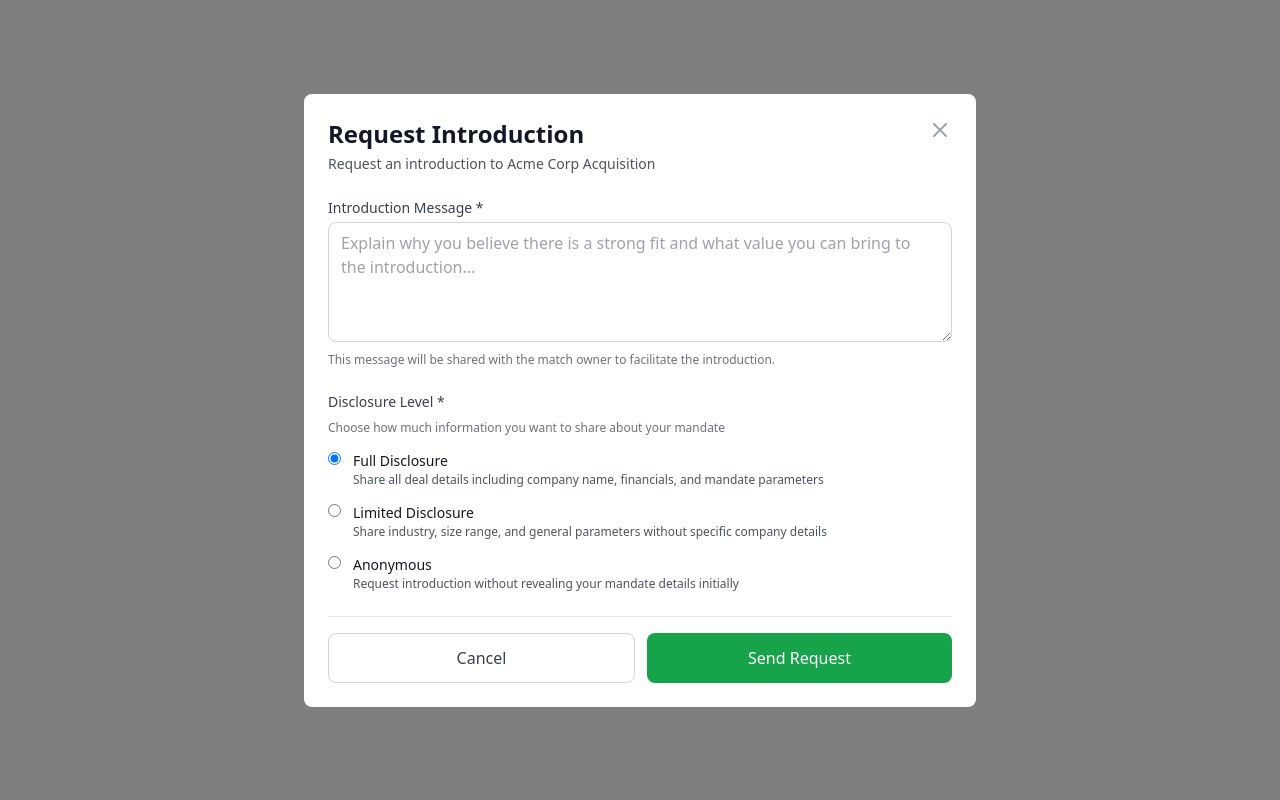
IntroductionRequestModal › should validate message is required
Click the button "Send Request" at x=800, y=658, box [647,632,952,682]
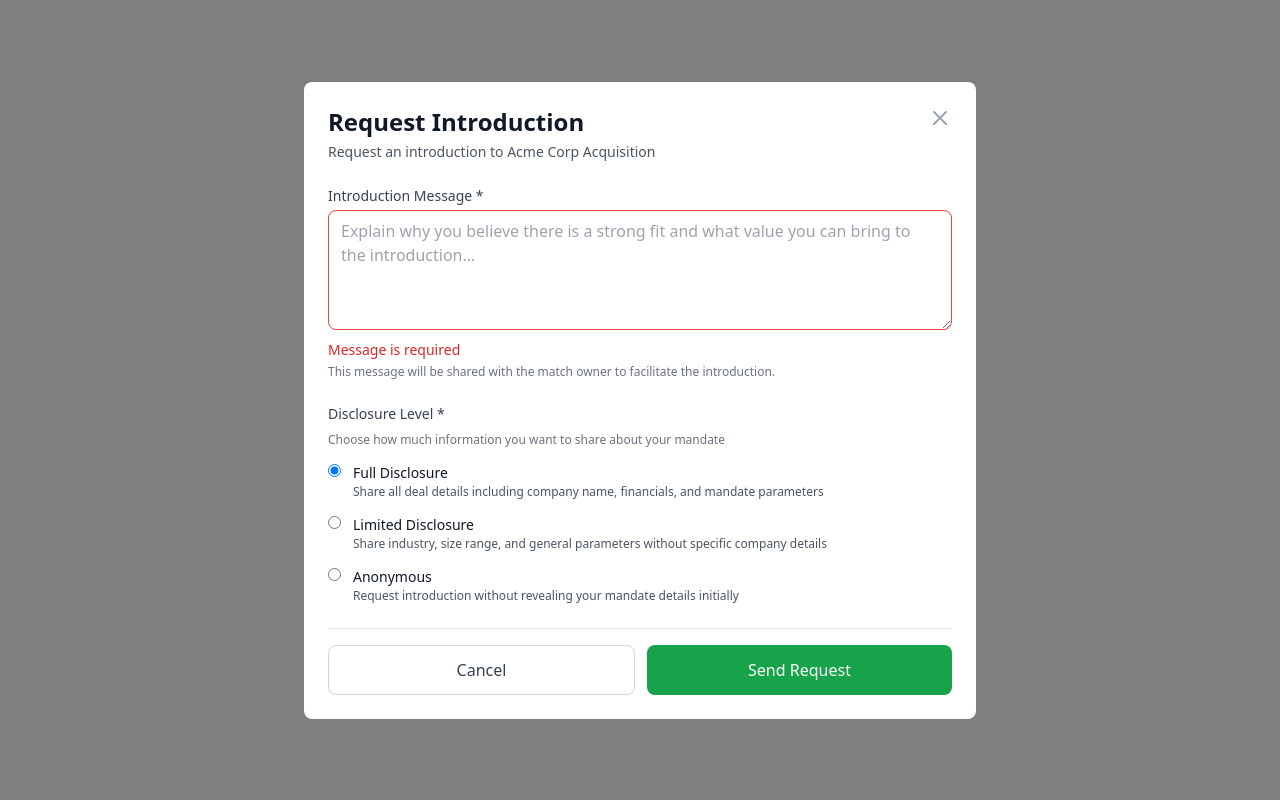
Now the text "Message is required" is shown, box [328,340,460,358]
